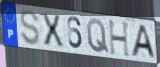6: (66, 16, 84, 51)
A: (130, 24, 157, 61)
H: (107, 20, 132, 59)
Q: (85, 18, 110, 55)
S: (19, 10, 41, 47)
X: (40, 12, 66, 49)
